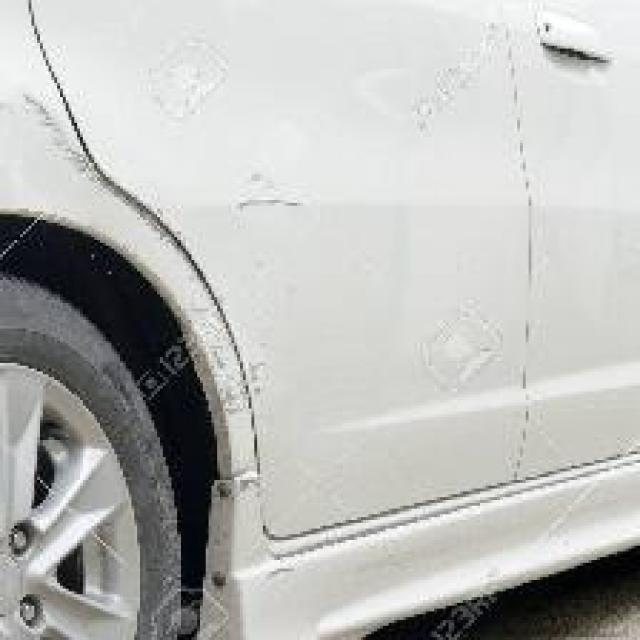damaged: (0, 94, 303, 500)
